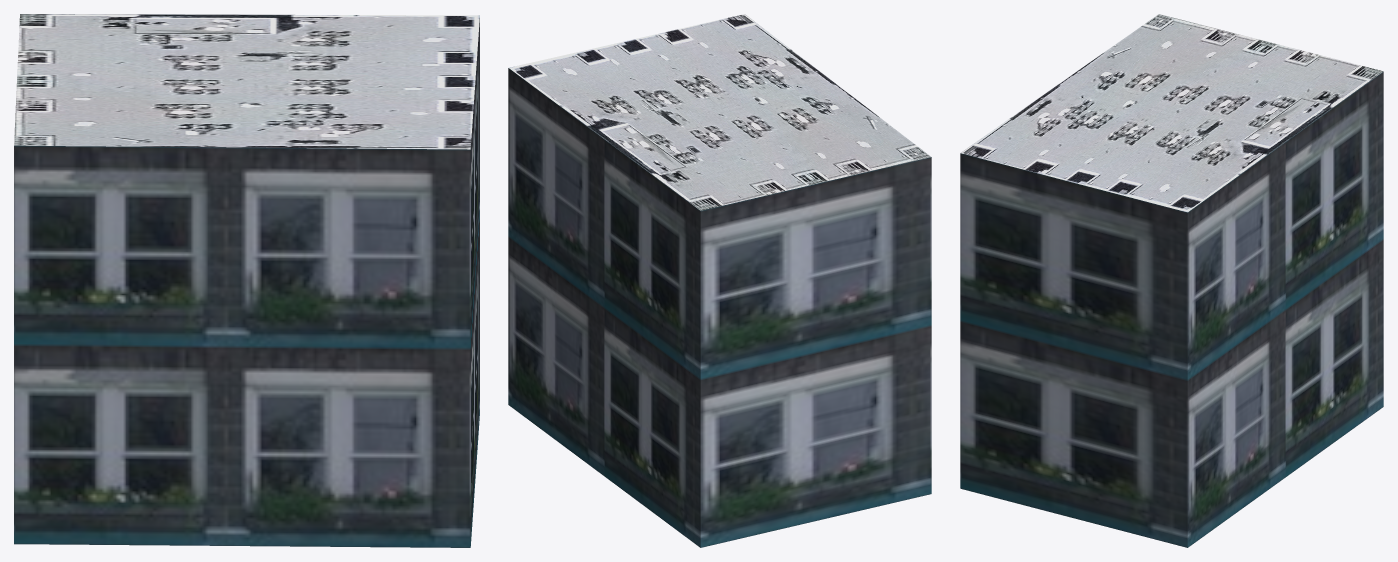
Rendered from ResTex__4416.fbx.
The picture shows the model from 3 angles, left to right: view 1: azimuth 30°, elevation 25°; view 2: azimuth 150°, elevation 25°; view 3: azimuth 270°, elevation 25°; orthographic projection. The views are drawn at different scales.
Visible parts, largest first — view 1: CityEngineMaterial_11_m, CityEngineMaterial_2_m; view 2: CityEngineMaterial_11_m, CityEngineMaterial_2_m; view 3: CityEngineMaterial_11_m, CityEngineMaterial_2_m.
Boxes of the visible parts, box(x1,y1,x2,y2) form: CityEngineMaterial_11_m: box(14, 18, 479, 547); CityEngineMaterial_2_m: box(14, 14, 479, 149); CityEngineMaterial_11_m: box(508, 68, 931, 547); CityEngineMaterial_2_m: box(509, 14, 930, 210); CityEngineMaterial_11_m: box(960, 71, 1383, 547); CityEngineMaterial_2_m: box(960, 14, 1383, 212).
Bounding box in the file's own units: 7.61 × 6 × 6.87.
2 materials, 2 textured.
